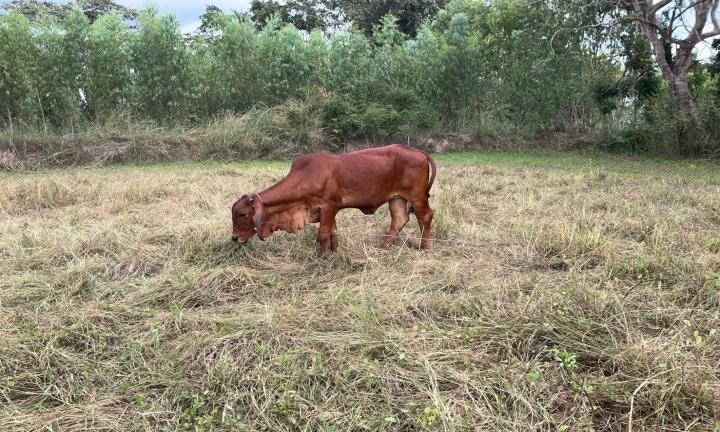Brahman: (232, 144, 435, 255)
